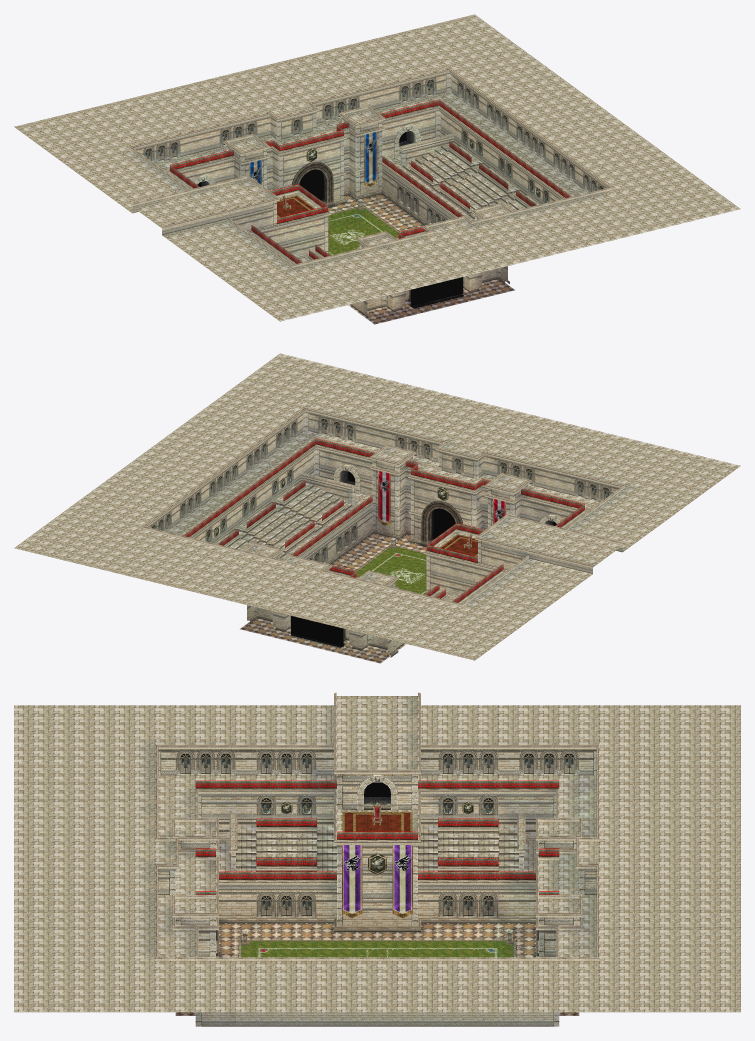
File: anterose.gltf
The picture shows the model from 3 angles, top to bottom: view 1: azimuth 30°, elevation 25°; view 2: azimuth 150°, elevation 25°; view 3: azimuth 270°, elevation 25°; orthographic projection. The views are drawn at different scales.
Visible parts, largest first — view 1: mesh_CD3DFile_Mesh (×120); view 2: mesh_CD3DFile_Mesh (×116); view 3: mesh_CD3DFile_Mesh (×129).
Boxes of the visible parts, x1,y1,x2,y2 form: mesh_CD3DFile_Mesh (×120): (14, 14, 740, 324); mesh_CD3DFile_Mesh (×116): (14, 353, 725, 663); mesh_CD3DFile_Mesh (×129): (14, 692, 740, 1026).
Bounding box in the file's own units: 72 × 14.15 × 72.
Materials: 15 (15 with a texture image).
